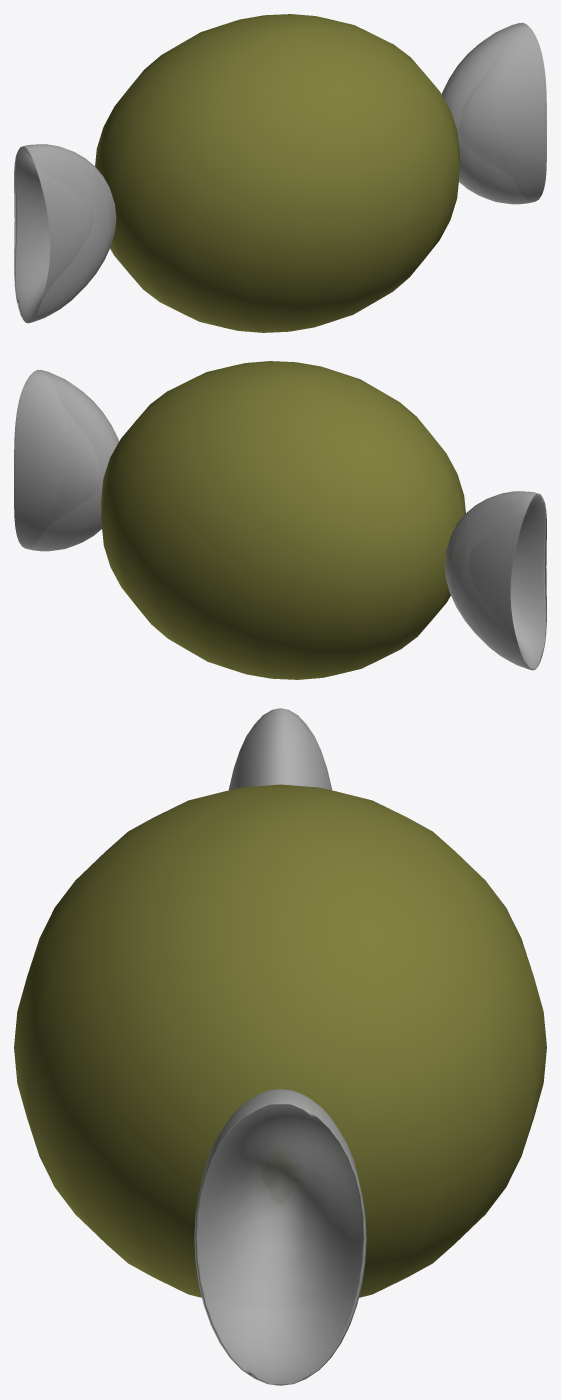
The model's file is Dulce.fbx.
3 renders of one model, top to bottom at view 1: azimuth 30°, elevation 25°; view 2: azimuth 150°, elevation 25°; view 3: azimuth 270°, elevation 25°, orthographic. The views are drawn at different scales.
Parts seen in each view (by area): view 1: pSphere1, pSphere3, pSphere2; view 2: pSphere1, pSphere3, pSphere2; view 3: pSphere1, pSphere3, pSphere2.
Boxes of the visible parts, x1,y1,x2,y2 form: pSphere1: [95, 14, 459, 332]; pSphere3: [441, 22, 546, 204]; pSphere2: [14, 144, 116, 323]; pSphere1: [101, 361, 465, 679]; pSphere3: [14, 369, 119, 551]; pSphere2: [444, 491, 546, 670]; pSphere1: [14, 784, 546, 1297]; pSphere3: [194, 1089, 366, 1385]; pSphere2: [228, 708, 332, 790].
Bounding box in the file's own units: 9.98 × 5.4 × 5.7.
